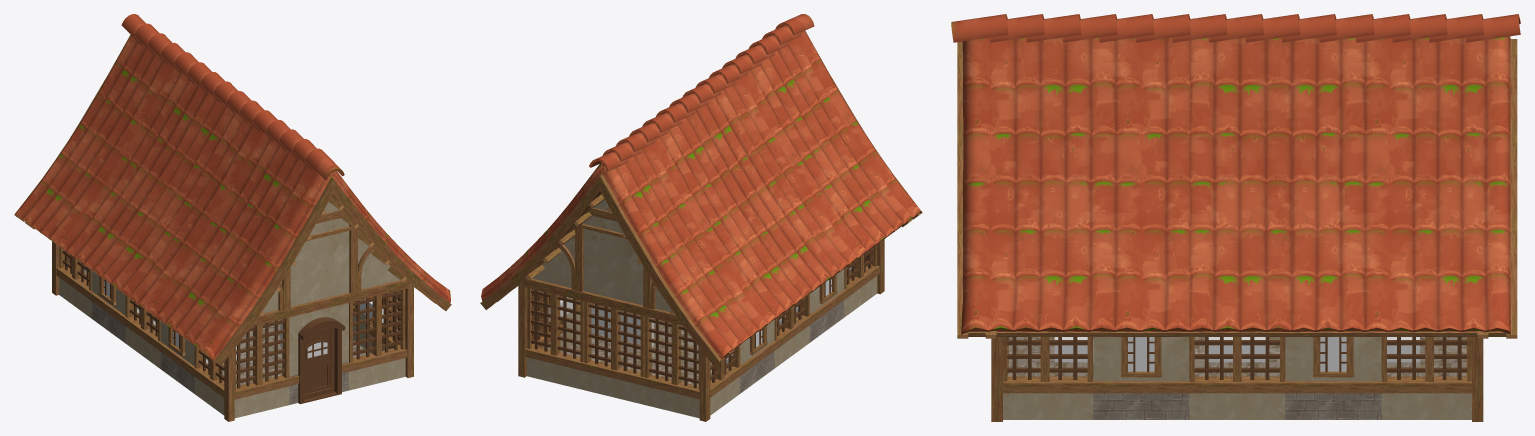
File: fx_stable.gltf
The picture shows the model from 3 angles, left to right: view 1: azimuth 30°, elevation 25°; view 2: azimuth 150°, elevation 25°; view 3: azimuth 270°, elevation 25°; orthographic projection. The views are drawn at different scales.
Parts seen in each view (by area): view 1: T1_KitRoofRoundTiles6x10047, T1_KitRoofFrontBrick6048, T1_KitWallPlasterWoodGrid006, T1_KitWallPlasterWoodGrid001, T1_KitWallPlasterDoorRound002, T1_KitDoor1Round004, T1_KitWallPlasterWoodGrid014, T1_KitDoorFrameRoundWoodDark003, T1_KitWallPlasterWoodGrid018, T1_KitWallPlasterWoodGrid010, T1_KitWallPlasterWindowThinRound011, T1_KitWallPlasterWindowThinRound015 (+4 smaller); view 2: T1_KitRoofRoundTiles6x10047, T1_KitRoofFrontBrick6049, T1_KitWallPlasterWoodGrid008, T1_KitWallPlasterWoodGrid007, T1_KitWallPlasterWoodGrid009, T1_KitWallPlasterWoodGrid014, T1_KitWallPlasterWoodGrid010, T1_KitWallPlasterWoodGrid018, T1_KitWallPlasterWindowThinRound015, T1_KitWallPlasterWindowThinRound011, T1_KitWallPlasterWoodGrid027, T1_KitCornerExteriorWood030 (+3 smaller); view 3: T1_KitRoofRoundTiles6x10047, T1_KitWallPlasterWoodGrid023, T1_KitWallPlasterWindowThinRound020, T1_KitWallPlasterWindowThinRound024, T1_KitWallPlasterWoodGrid019, T1_KitWallPlasterWoodGrid027, T1_KitFloorUnevenBrick037, T1_KitFloorUnevenBrick041, T1_KitWindowThinRound1025, T1_KitWindowThinRound1021, T1_KitFloorUnevenBrick039, T1_KitCornerExteriorWood029 (+4 smaller).
Part boxes in pixels (bbox=[...]): T1_KitRoofRoundTiles6x10047: bbox=[14, 14, 451, 365]; T1_KitRoofFrontBrick6048: bbox=[251, 197, 414, 326]; T1_KitWallPlasterWoodGrid006: bbox=[349, 289, 407, 390]; T1_KitWallPlasterWoodGrid001: bbox=[234, 317, 290, 418]; T1_KitWallPlasterDoorRound002: bbox=[289, 303, 350, 404]; T1_KitDoor1Round004: bbox=[304, 327, 334, 399]; T1_KitWallPlasterWoodGrid014: bbox=[123, 295, 160, 368]; T1_KitDoorFrameRoundWoodDark003: bbox=[298, 317, 345, 404]; T1_KitWallPlasterWoodGrid018: bbox=[192, 346, 236, 415]; T1_KitWallPlasterWoodGrid010: bbox=[56, 250, 91, 318]; T1_KitWallPlasterWindowThinRound011: bbox=[89, 270, 125, 343]; T1_KitWallPlasterWindowThinRound015: bbox=[158, 321, 194, 393]; T1_KitRoofRoundTiles6x10047: bbox=[480, 14, 922, 365]; T1_KitRoofFrontBrick6049: bbox=[522, 194, 682, 325]; T1_KitWallPlasterWoodGrid008: bbox=[582, 301, 644, 404]; T1_KitWallPlasterWoodGrid007: bbox=[525, 287, 584, 389]; T1_KitWallPlasterWoodGrid009: bbox=[643, 316, 699, 418]; T1_KitWallPlasterWoodGrid014: bbox=[774, 294, 812, 368]; T1_KitWallPlasterWoodGrid010: bbox=[698, 345, 742, 415]; T1_KitWallPlasterWoodGrid018: bbox=[844, 248, 879, 317]; T1_KitWallPlasterWindowThinRound015: bbox=[809, 269, 847, 342]; T1_KitWallPlasterWindowThinRound011: bbox=[739, 320, 777, 393]; T1_KitWallPlasterWoodGrid027: bbox=[527, 287, 563, 352]; T1_KitCornerExteriorWood030: bbox=[518, 282, 526, 377]; T1_KitRoofRoundTiles6x10047: bbox=[951, 14, 1520, 338]; T1_KitWallPlasterWoodGrid023: bbox=[1189, 337, 1285, 419]; T1_KitWallPlasterWindowThinRound020: bbox=[1093, 337, 1189, 419]; T1_KitWallPlasterWindowThinRound024: bbox=[1285, 337, 1381, 419]; T1_KitWallPlasterWoodGrid019: bbox=[1003, 337, 1093, 419]; T1_KitWallPlasterWoodGrid027: bbox=[1381, 337, 1471, 419]; T1_KitFloorUnevenBrick037: bbox=[1008, 337, 1087, 376]; T1_KitFloorUnevenBrick041: bbox=[1387, 337, 1466, 376]; T1_KitWindowThinRound1025: bbox=[1313, 337, 1354, 377]; T1_KitWindowThinRound1021: bbox=[1121, 337, 1161, 377]; T1_KitFloorUnevenBrick039: bbox=[1194, 337, 1279, 376]; T1_KitCornerExteriorWood029: bbox=[991, 337, 1002, 421].
Size of the model in its own units: 8.25 by 7.9 by 11.85.
Materials: 17 (17 with a texture image).
